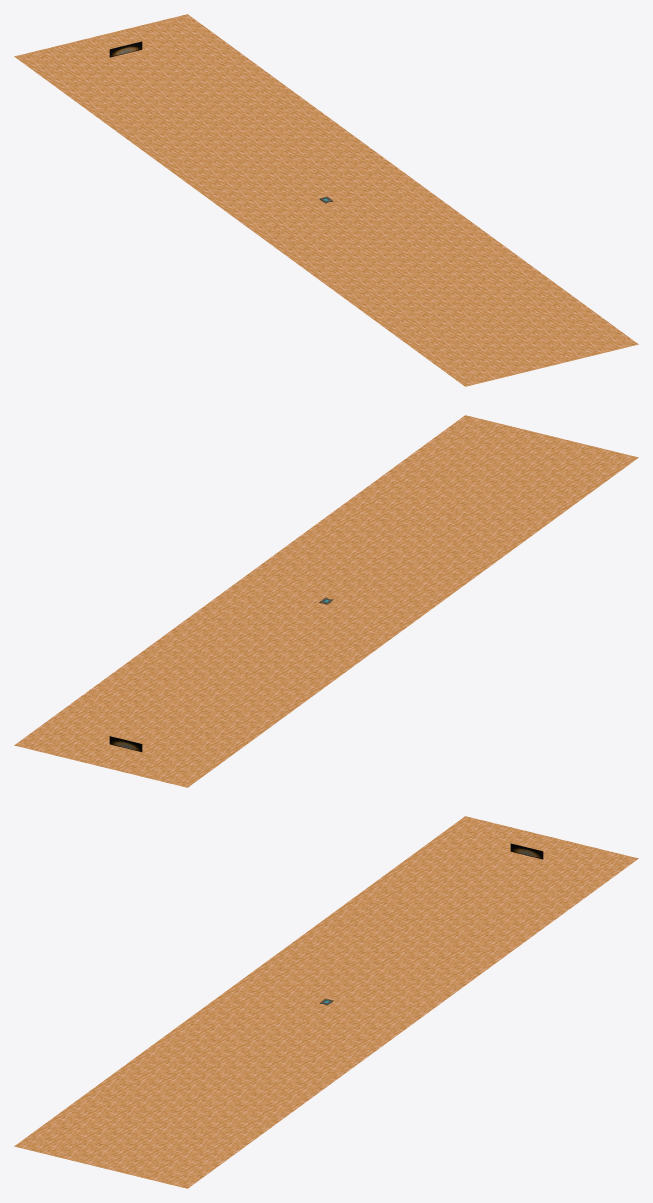
File: boss-gryphon.obj
3 renders of one model, top to bottom at view 1: azimuth 30°, elevation 25°; view 2: azimuth 150°, elevation 25°; view 3: azimuth 330°, elevation 25°, orthographic.
Visible parts, largest first — view 1: mesh_55; view 2: mesh_55; view 3: mesh_55.
Boxes of the visible parts, x1,y1,x2,y2 form: mesh_55: [14, 14, 638, 386]; mesh_55: [14, 415, 638, 787]; mesh_55: [14, 816, 638, 1188].
Bounding box in the file's own units: 3200 × 166 × 14400.
Materials: 46 (46 with a texture image).
